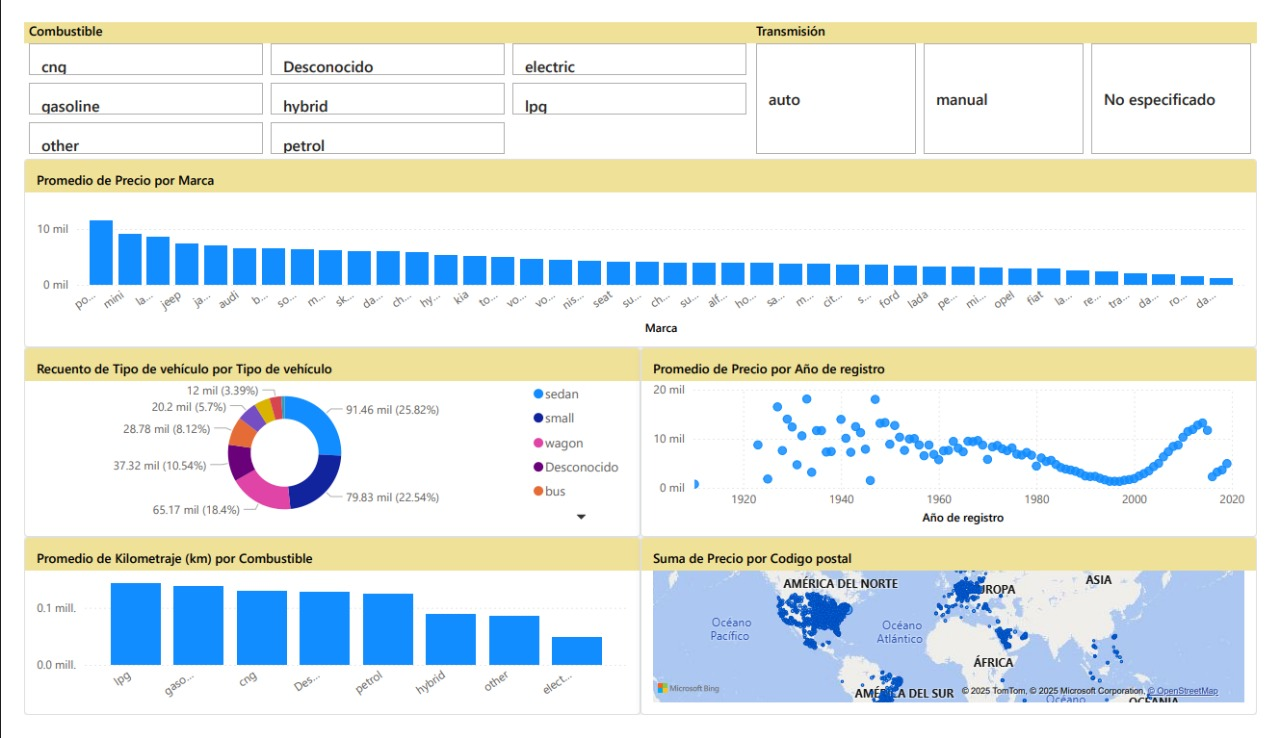

The dashboard page shown, as its layout file describes it:
{"tool":"powerbi","page":{"name":"Página 1","canvas":[1280,720],"ordinal":0},"visuals":[{"type":"columnChart","fields":{"Y":["Avg(car_data.Precio)"],"Category":["car_data.Marca"]},"box":[0,142,1280,196.5],"z":0},{"type":"donutChart","fields":{"Category":["car_data.Tipo de vehículo"],"Y":["CountNonNull(car_data.Tipo de vehículo)"]},"box":[0,338.5,640,196.5],"z":1000},{"type":"scatterChart","fields":{"X":["car_data.Año de registro"],"Y":["car_data.Precio"]},"box":[640,338.5,640,196.5],"z":2000},{"type":"clusteredColumnChart","fields":{"Category":["car_data.Combustible"],"Y":["Avg(car_data.Kilometraje (km))"]},"box":[0,535,640,184.8],"z":3000},{"type":"map","fields":{"Category":["car_data.Codigo postal"],"Size":["Sum(car_data.Precio)"]},"box":[640,535,640,184.8],"z":4000},{"type":"advancedSlicerVisual","fields":{"Values":["car_data.Transmisión"]},"box":[754.7,0,525.3,142.1],"z":4001},{"type":"advancedSlicerVisual","fields":{"Values":["car_data.Combustible"]},"box":[0,0,754.8,142],"z":4002}]}

Visuals, with their boxes in screenshot pixels (x1, y1, x2, y2), scaled from the page's 1280x720 canvas onto the 1280x738 screenshot:
columnChart - Avg(car_data.Precio) x car_data.Marca: [0,146,1279,347]
donutChart - car_data.Tipo de vehículo x CountNonNull(car_data.Tipo de vehículo): [0,347,640,548]
scatterChart - car_data.Año de registro x car_data.Precio: [640,347,1279,548]
clusteredColumnChart - car_data.Combustible x Avg(car_data.Kilometraje (km)): [0,548,640,737]
map - car_data.Codigo postal x Sum(car_data.Precio): [640,548,1279,737]
advancedSlicerVisual - car_data.Transmisión: [755,0,1279,146]
advancedSlicerVisual - car_data.Combustible: [0,0,755,146]
